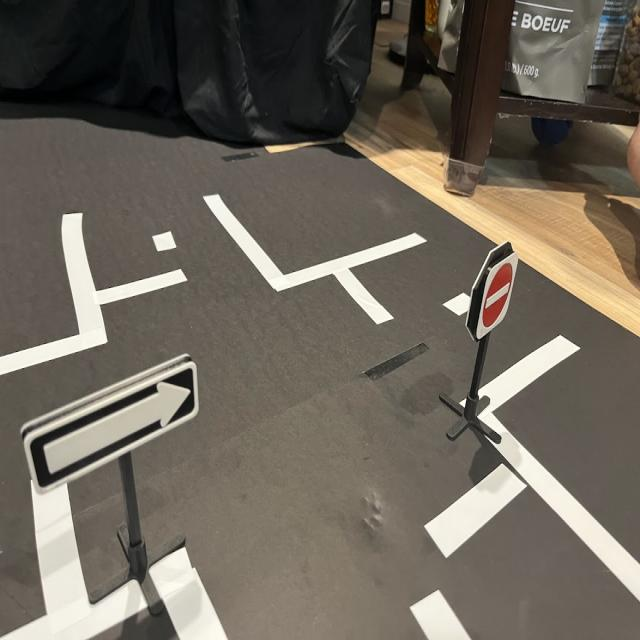sign_noentry: (475, 251, 524, 345)
sign_oneway_right: (20, 357, 202, 502)
